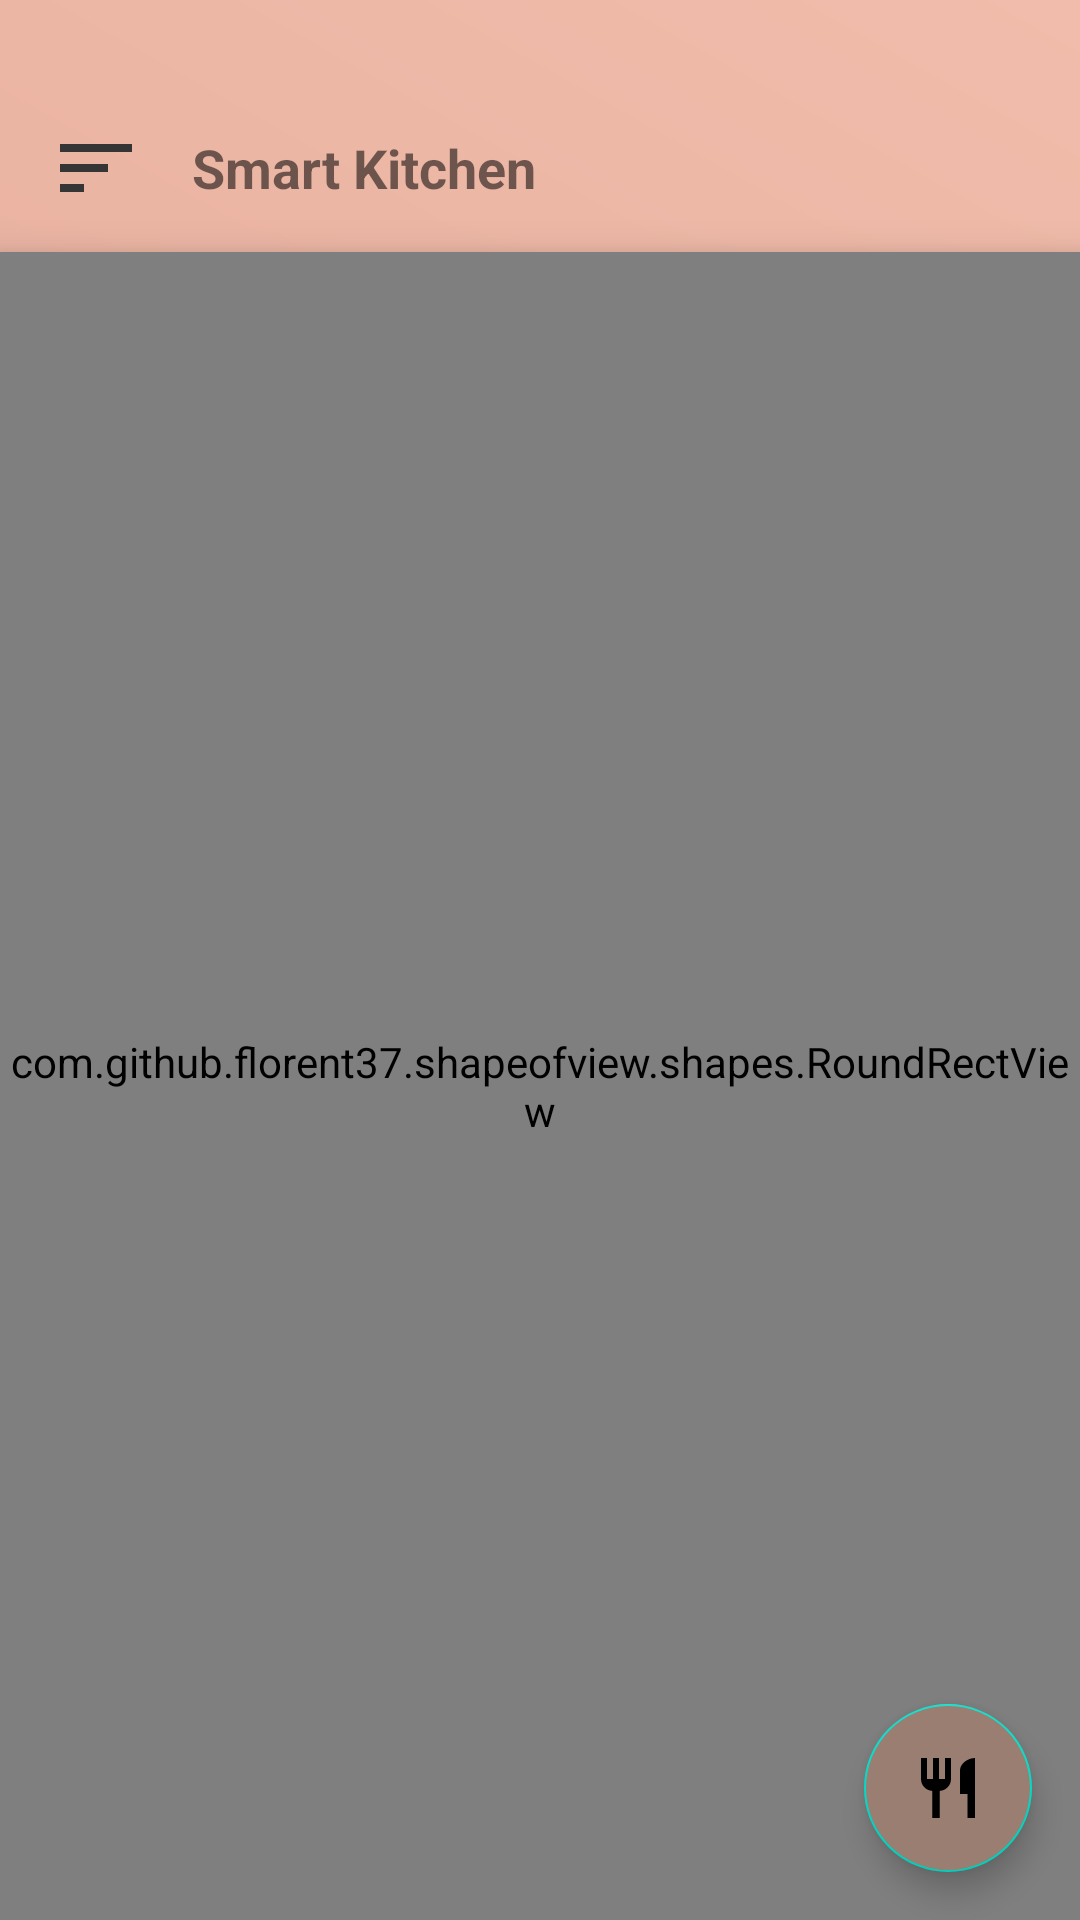

Where to tap for icons on this 1080*1920 app screen, as point (x, y):
list: point (96, 168)
restaurant: point (948, 1788)
